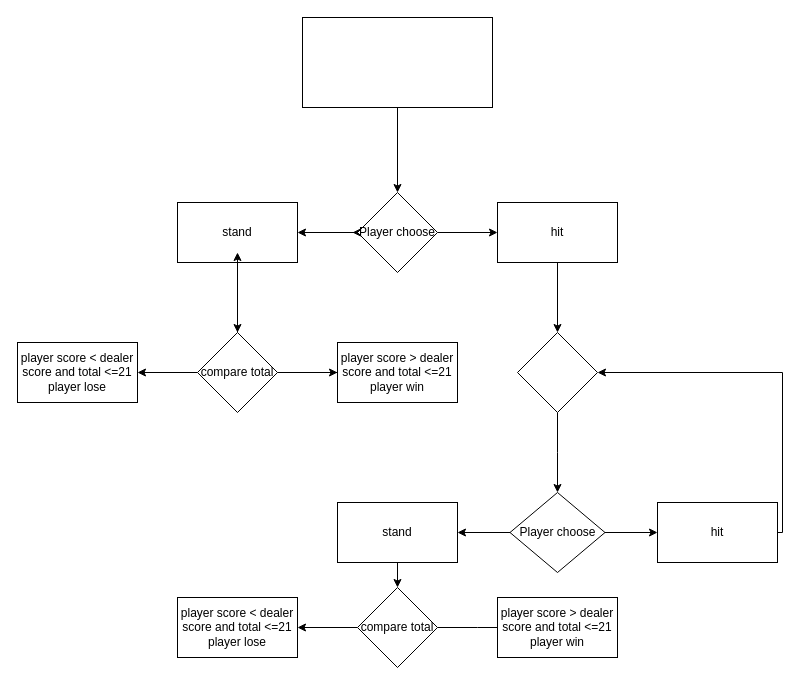
Some shapes in this 808 by 685 pixel diagram are drawn without their labels. The shapes that lost their labels are listed below. From the top down, each one's centre as x and y in pixels, then its label:
At (397,62): "Game start : -computer has one random card -player has 2 random card".
At (557,372): "total =< 21".
